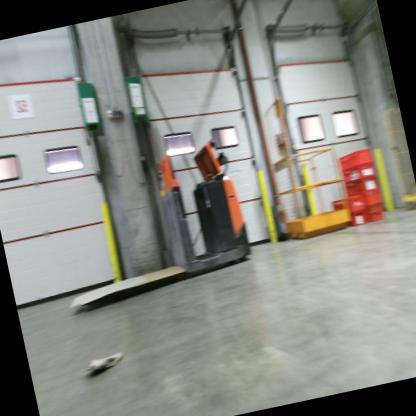pallet_truck: (49, 126, 259, 309)
small_load_carrier: (329, 194, 370, 233), (334, 141, 375, 174), (344, 183, 385, 212), (338, 160, 376, 187), (342, 174, 379, 200), (365, 200, 385, 226)
